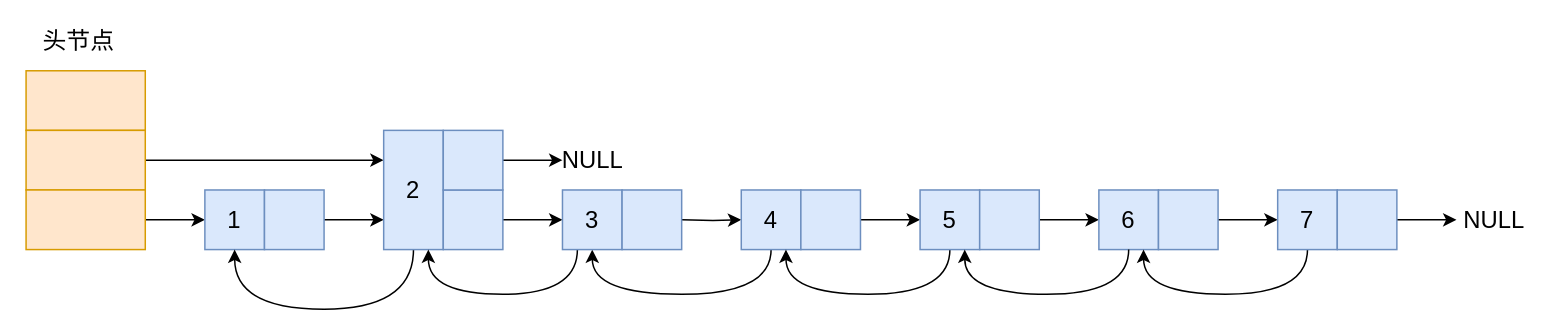
Image size: 1565x335. Some labels were removed from this diagram. The centre of each missing label's shape, as x and y in pixels:
L0: the point at 85,219
L1: the point at 85,159
L2: the point at 85,99
